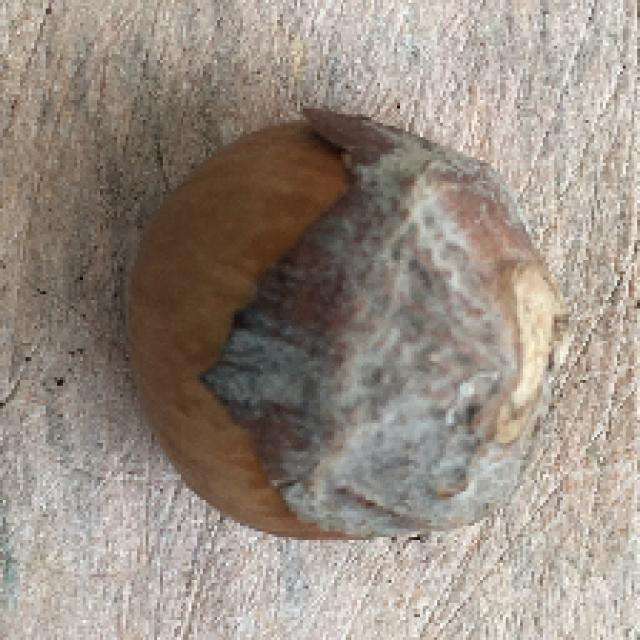damagedHazelnut: (95, 102, 566, 560)
